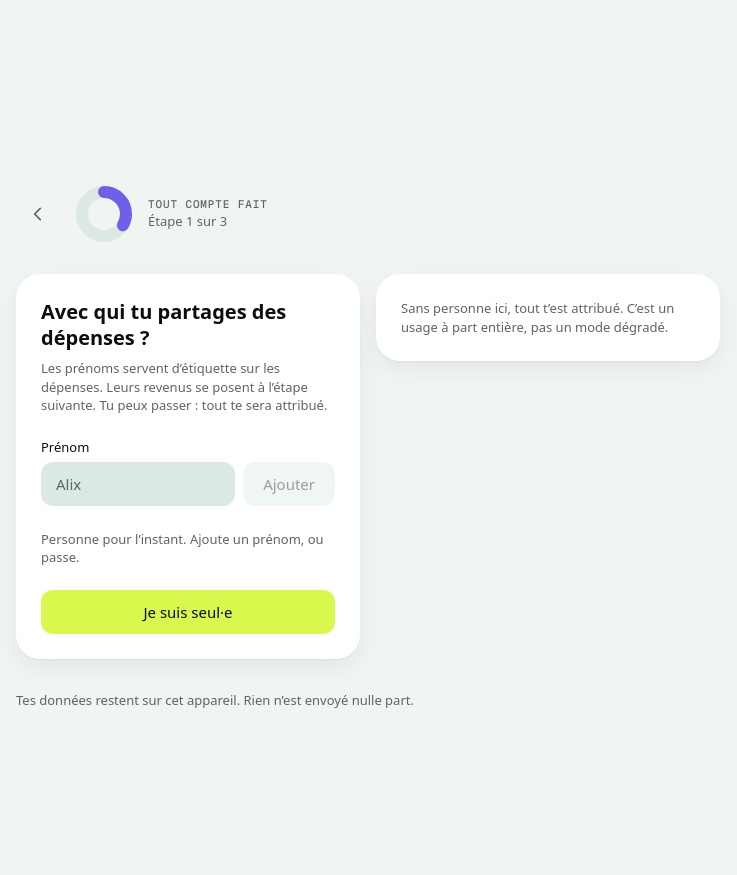
Test: les trois étapes du premier lancement › nomme l’export à la dernière étape, et pas avant
The image size is (737, 875).
Click the button "Je suis seul·e".
click(188, 612)  # box [41,590,335,634]
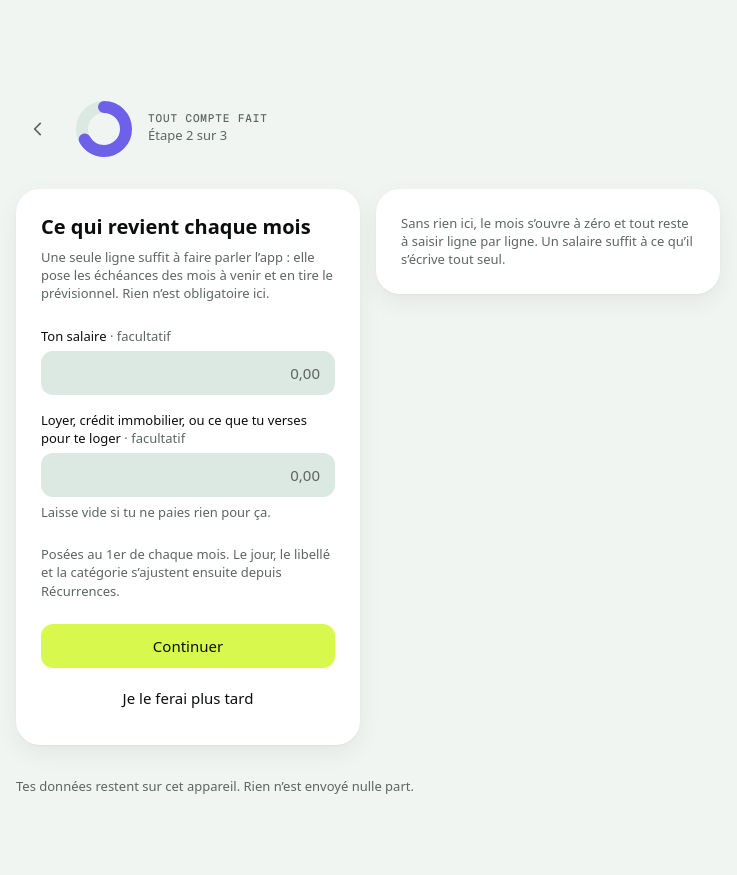
Click the button "Je le ferai plus tard".
click(188, 698)  # box [41,676,335,720]
(page scrolled)
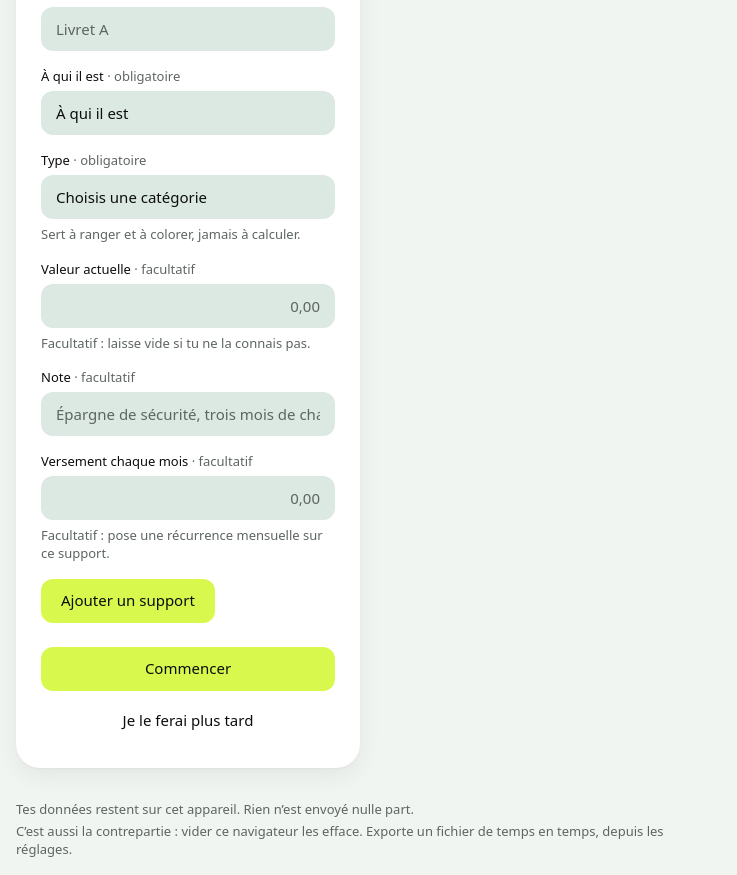
Result: the text "C’est aussi la contrepartie : vider ce navigateur les efface. Exporte un fichier de temps en temps, depuis les réglages." is shown at [16,822,664,858]
